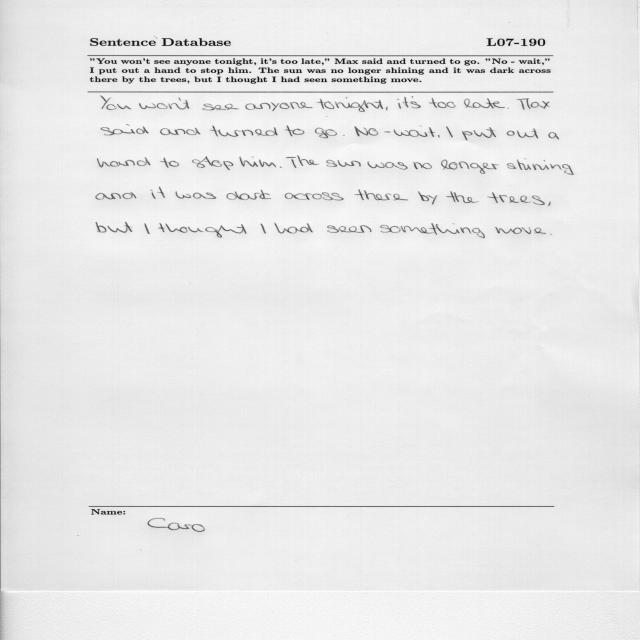word: (380, 223, 485, 238), (158, 223, 247, 238), (507, 158, 574, 175), (318, 97, 384, 112), (139, 98, 215, 111), (441, 159, 498, 174), (211, 125, 278, 137), (487, 192, 545, 205), (245, 102, 313, 111), (354, 190, 408, 201), (98, 157, 151, 168), (192, 156, 233, 170), (285, 192, 344, 201), (101, 125, 149, 136), (464, 98, 505, 109), (226, 190, 271, 200), (462, 127, 496, 140), (274, 223, 313, 234), (394, 127, 435, 137), (286, 156, 320, 168), (240, 157, 277, 168), (517, 98, 550, 110), (446, 191, 479, 203), (96, 222, 132, 233), (367, 161, 408, 170), (327, 225, 372, 233), (495, 227, 546, 234), (176, 191, 217, 199), (507, 129, 539, 139), (96, 192, 136, 200), (160, 128, 200, 135), (429, 98, 455, 108), (418, 192, 437, 205), (326, 160, 361, 167), (315, 128, 337, 139), (355, 127, 379, 137), (100, 96, 117, 110), (402, 96, 421, 108), (285, 126, 304, 137), (160, 157, 179, 168), (150, 187, 165, 199), (214, 104, 239, 110), (413, 162, 432, 169), (549, 132, 560, 140), (446, 127, 453, 138), (117, 104, 131, 109), (144, 223, 150, 234), (260, 224, 266, 234), (397, 99, 401, 109), (385, 131, 391, 133), (548, 202, 551, 206), (386, 107, 388, 111), (438, 135, 440, 138), (507, 108, 509, 109), (343, 135, 345, 136), (280, 167, 282, 168), (550, 234, 552, 235)
